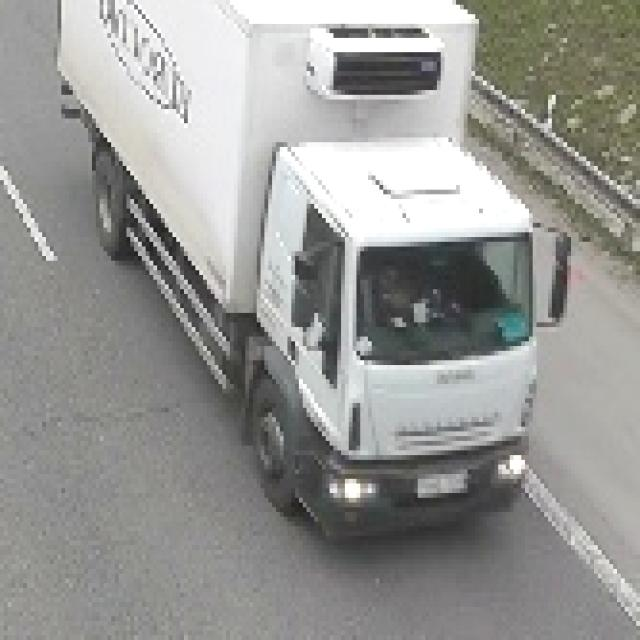truck: (50, 1, 568, 541)
